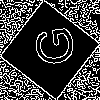G: (25, 25, 76, 69)
